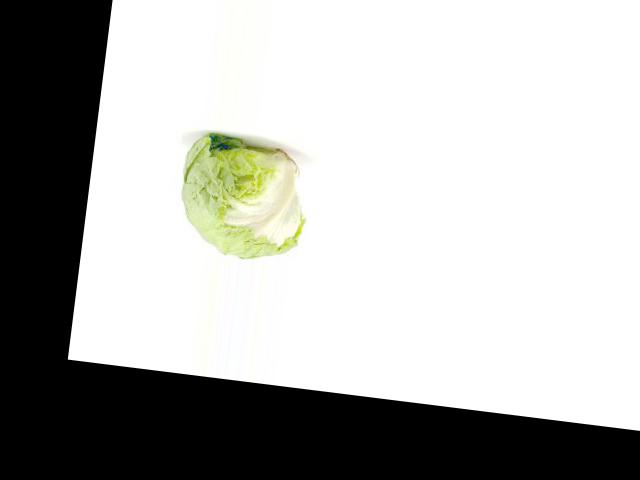lettuce: (149, 101, 314, 258)
